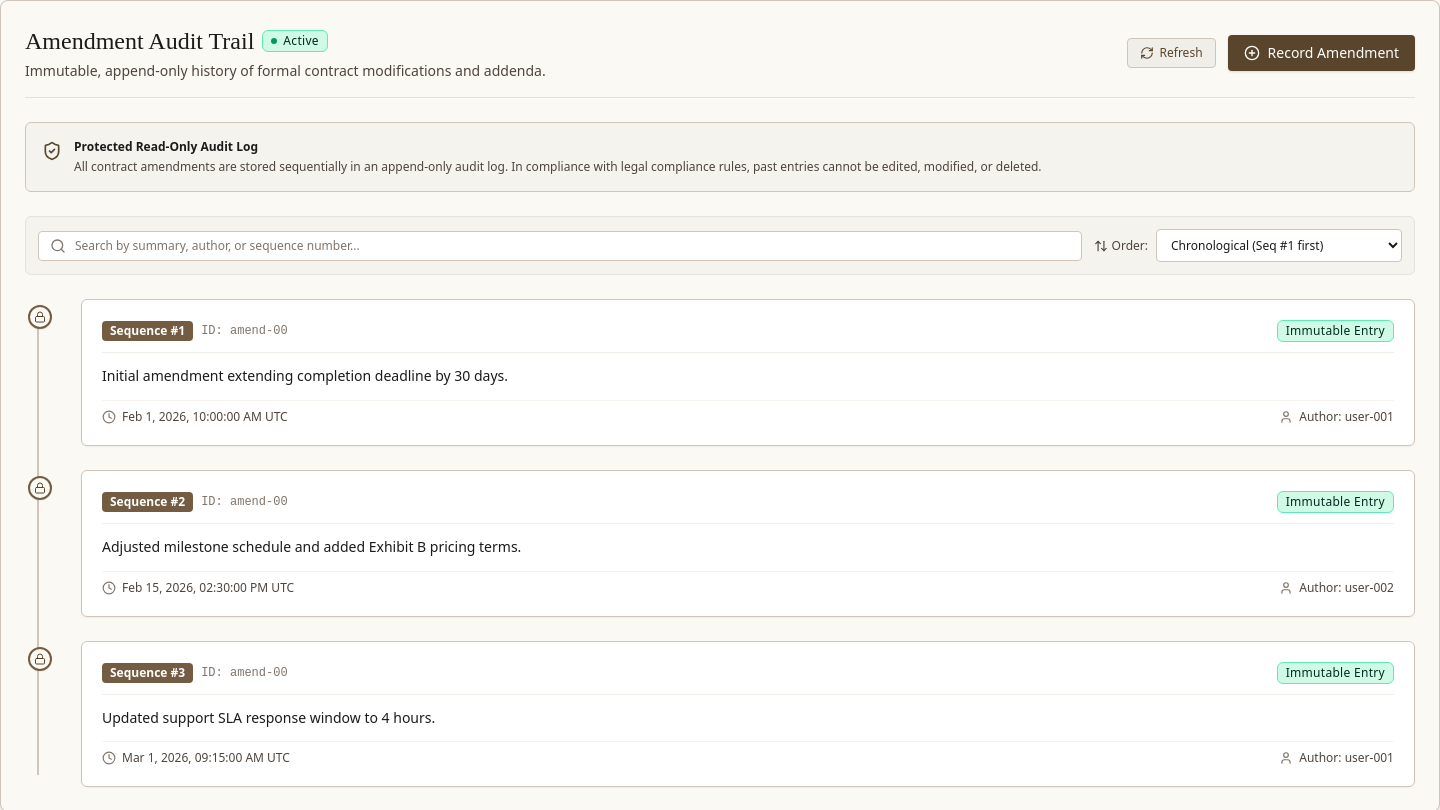
Test: AmendmentTimeline Component › displays error alert when form submission fails
Click the button "Record Amendment": (1321, 53) [1228,35,1415,71]
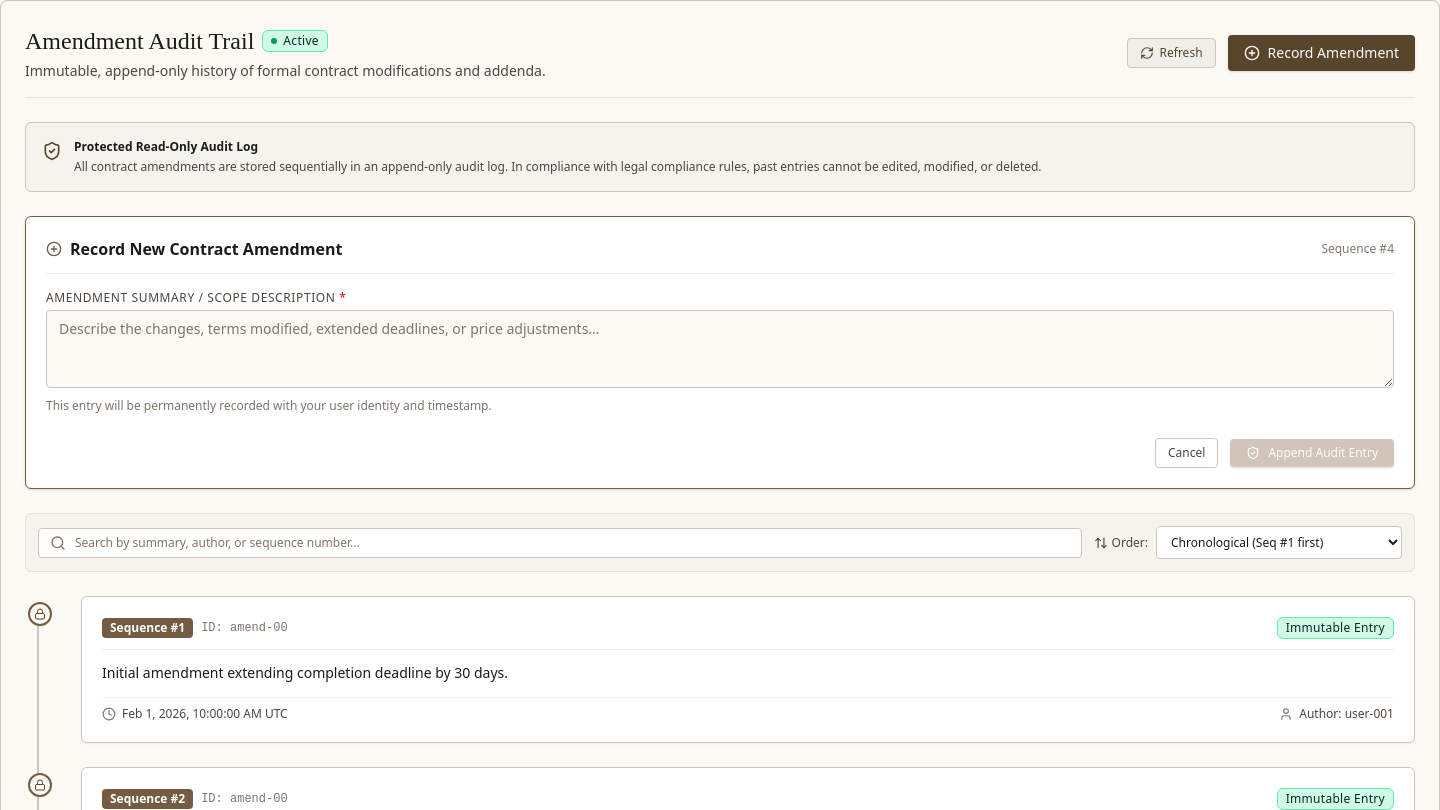
Replace the text in the text box labelled "Amendment Summary / Scope Description *" with "Attempting invalid amendment": (720, 349) [46,310,1394,388]
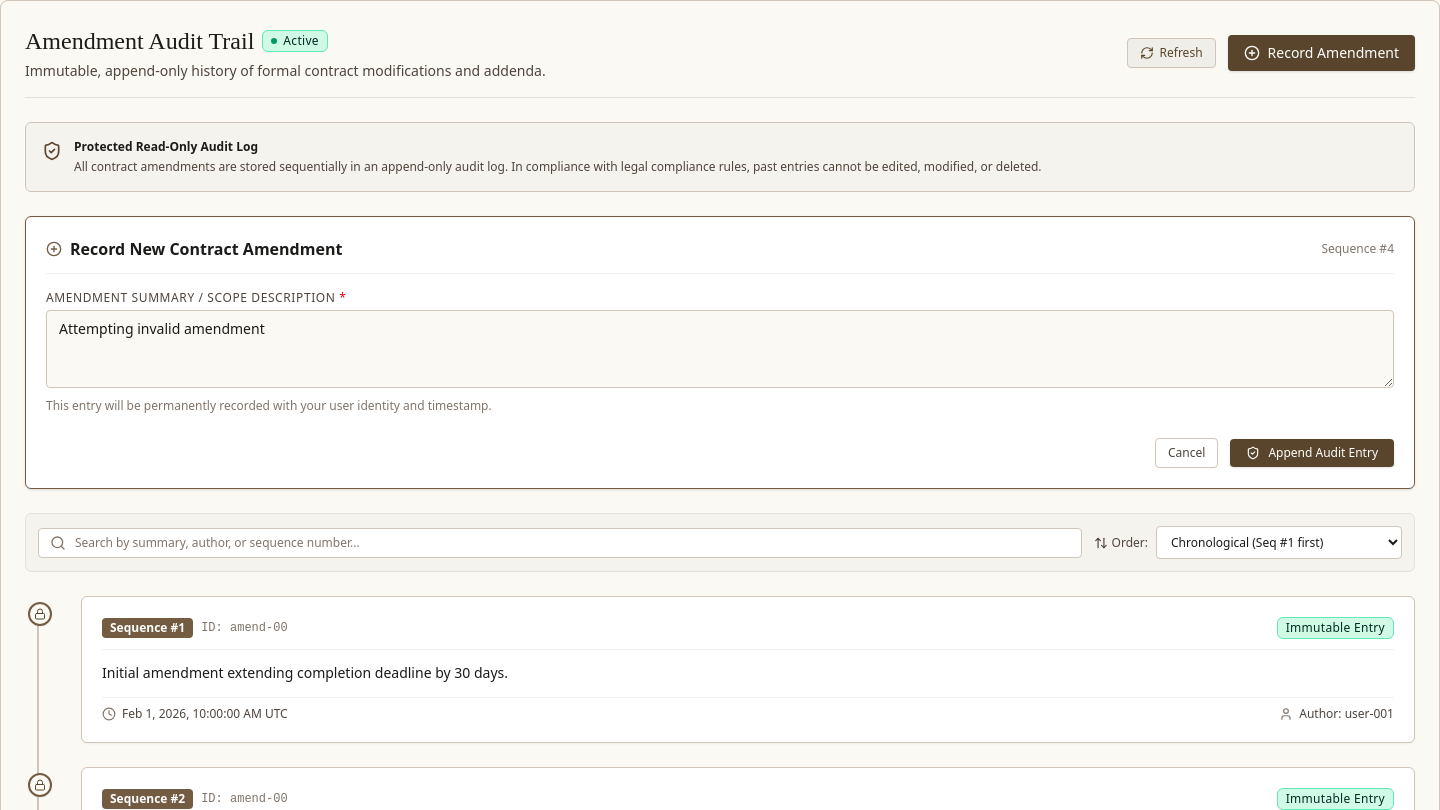
Click the button "Append Audit Entry": (1312, 453) [1230,439,1394,467]
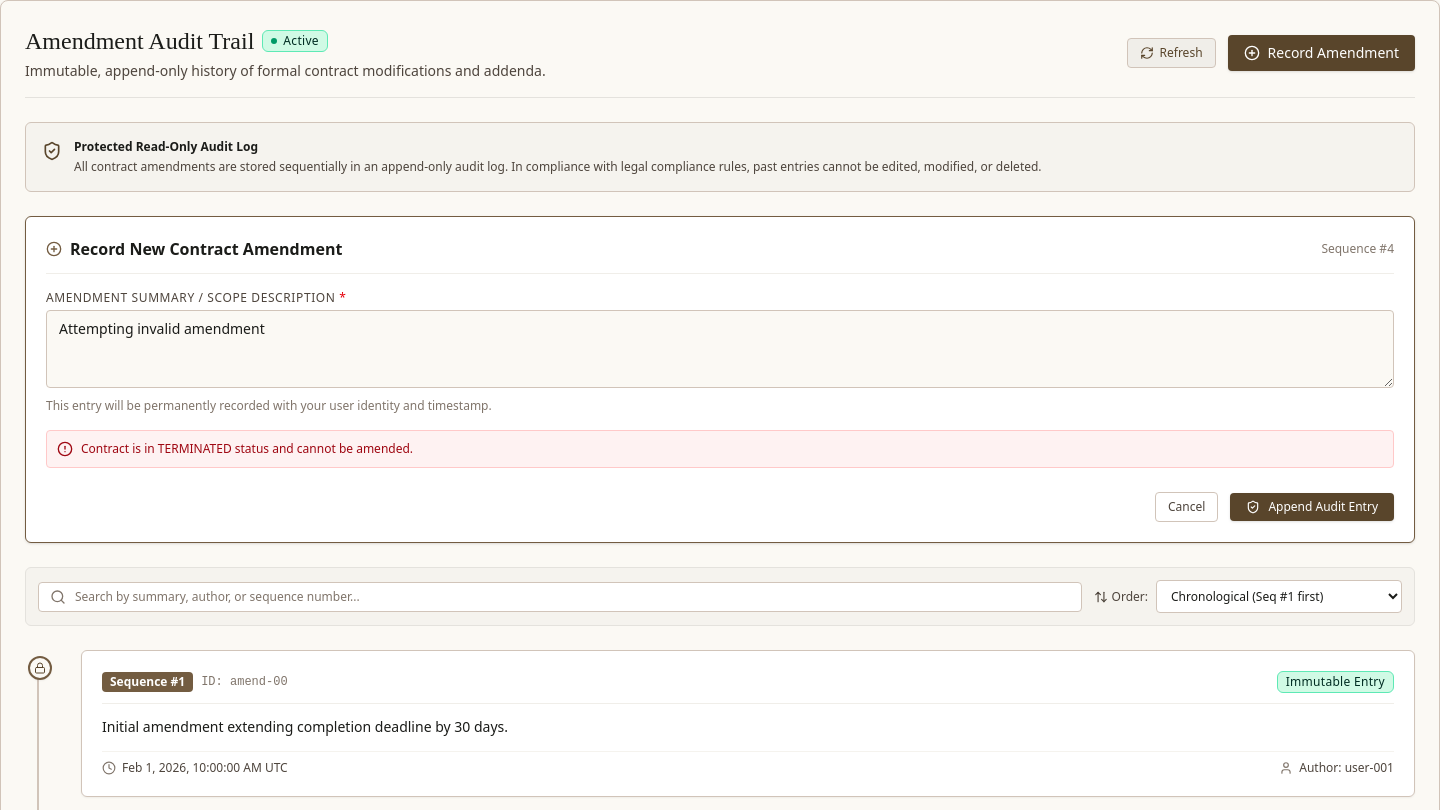
Result: the text "Contract is in TERMINATED status and cannot be amended." is shown at [81,441,413,457]
